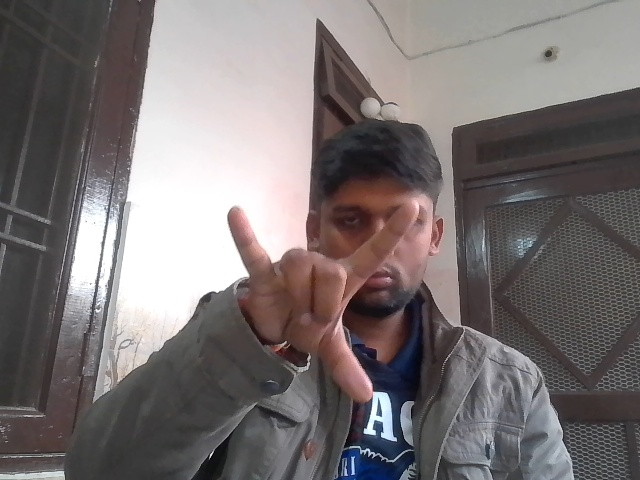ILoveYou: (214, 191, 446, 405)
